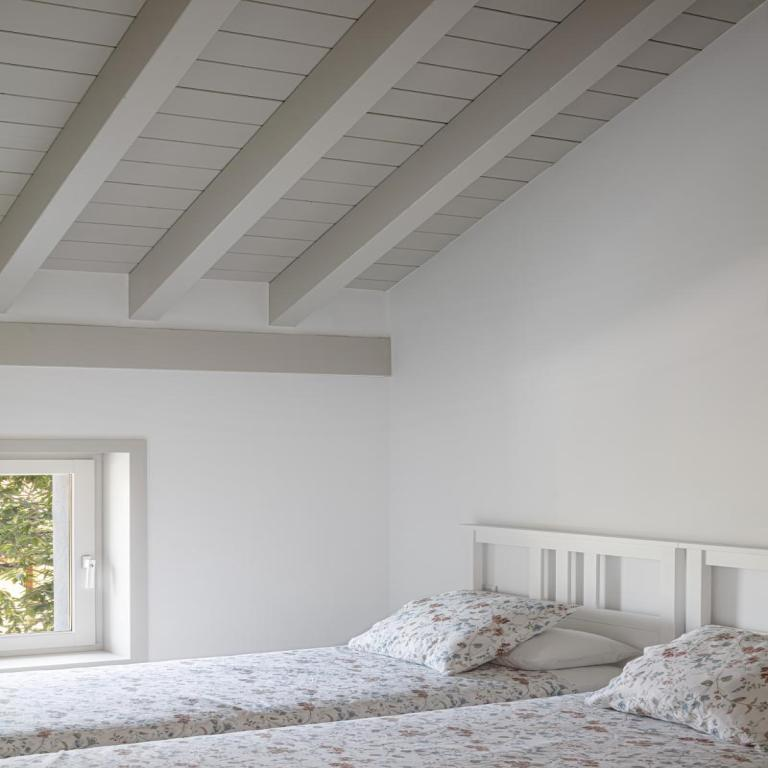white-walls: (13, 36, 757, 645)
